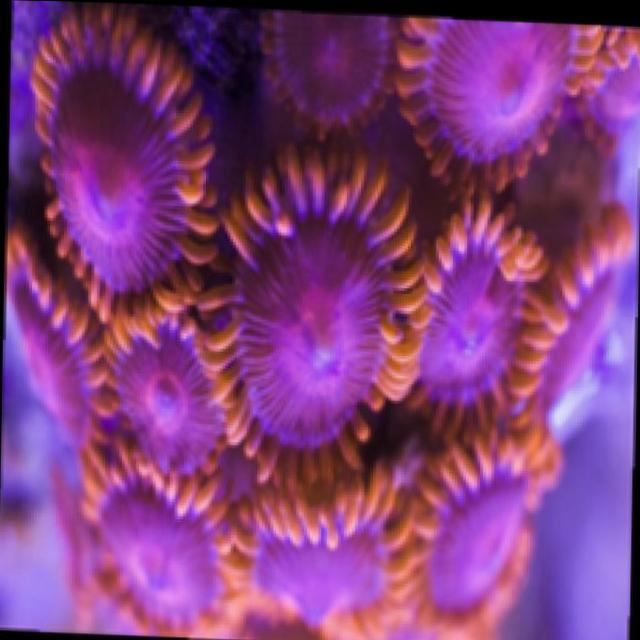Healthy Coral: (0, 0, 622, 639)
